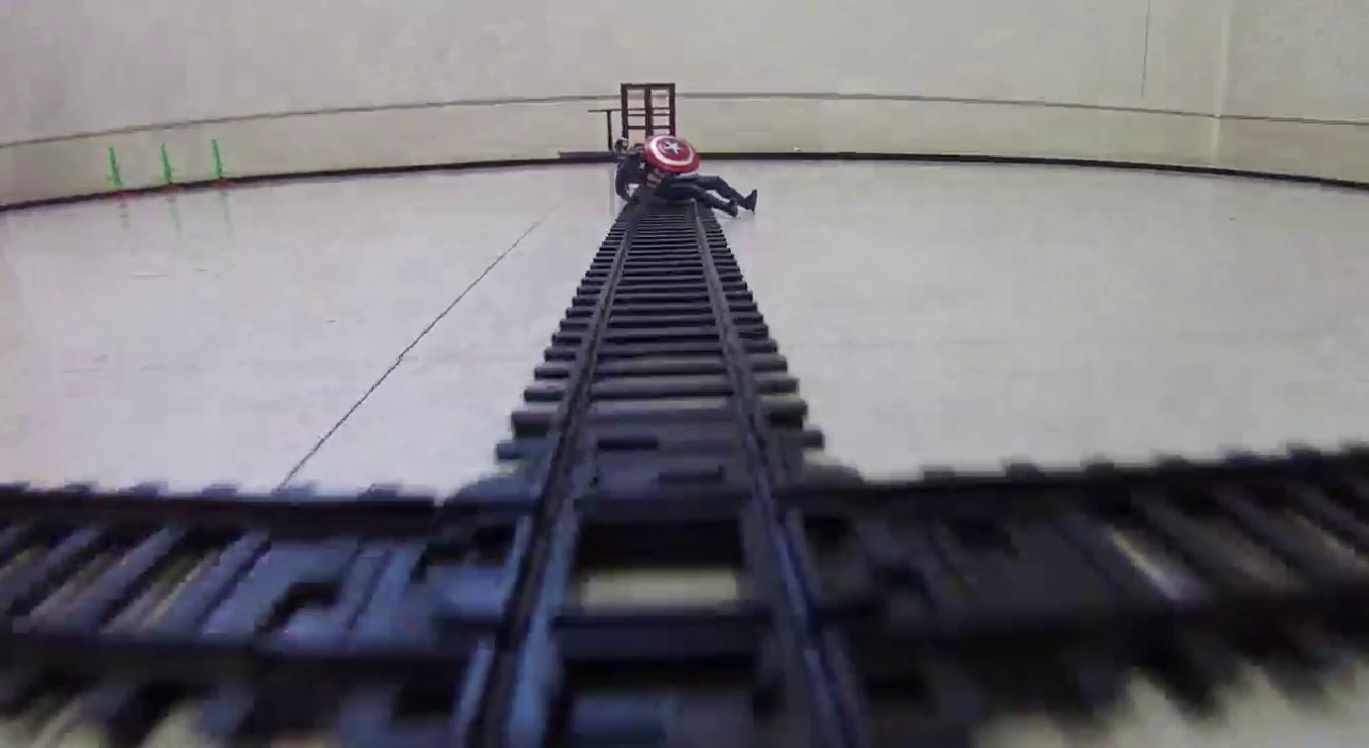people: (616, 134, 755, 222)
